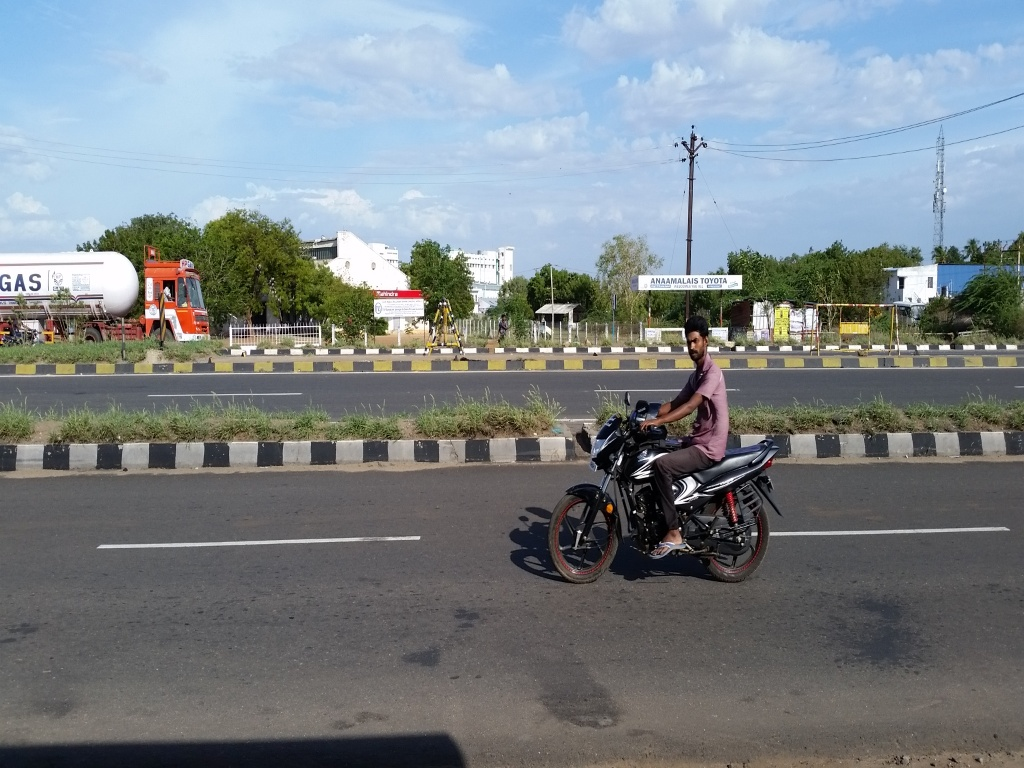biker: (527, 287, 805, 599)
nohelmet: (678, 310, 721, 371)
